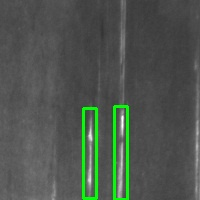scratches: (114, 106, 127, 199), (83, 108, 96, 198)
